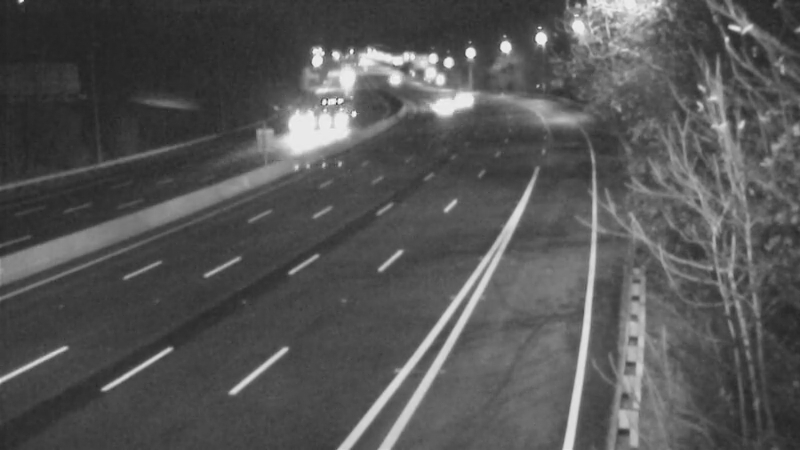vehicle: (369, 57, 419, 107), (437, 76, 487, 126), (417, 84, 467, 134), (280, 101, 330, 151), (322, 95, 372, 145)
